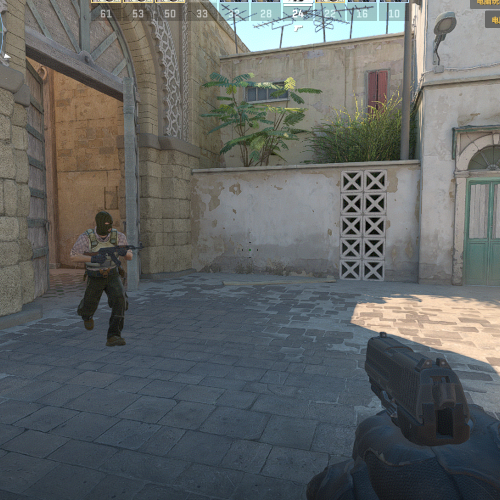t_body: (73, 209, 131, 347)
t_head: (94, 211, 113, 236)
